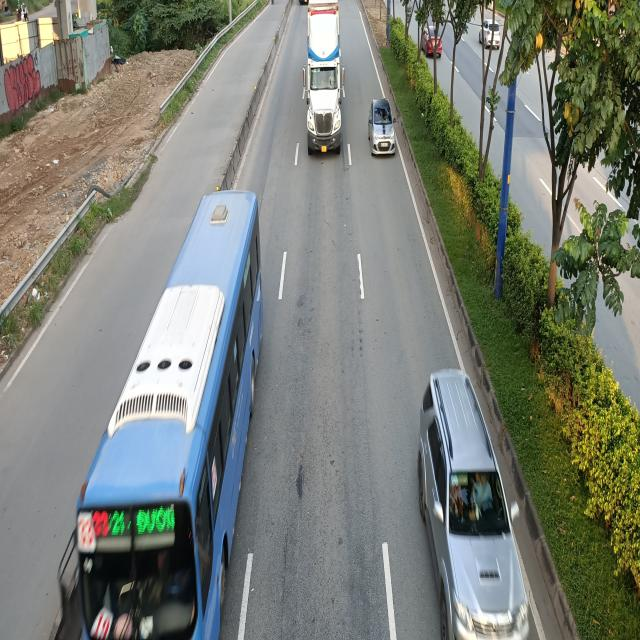car: (416, 370, 530, 640), (368, 97, 397, 156)
coach: (55, 192, 268, 640)
container: (302, 1, 343, 152)
